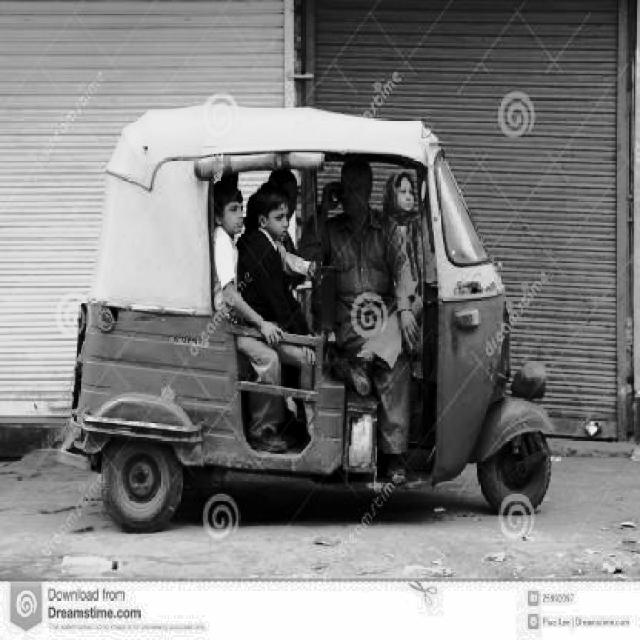Auto-Rickshaw: (57, 104, 586, 534)
